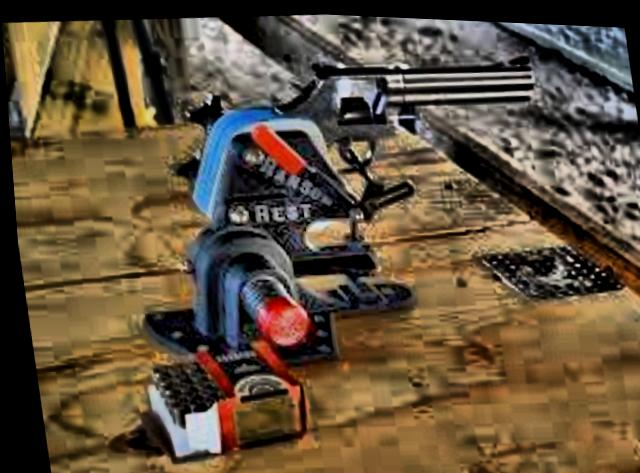pistol: (195, 38, 555, 199)
